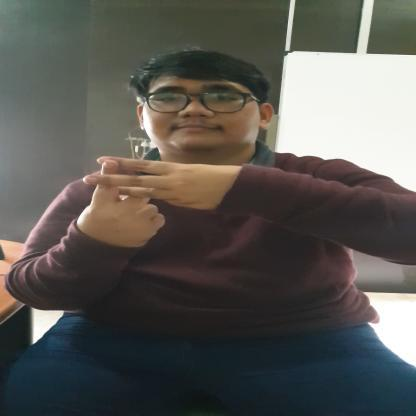B: (77, 148, 234, 250)
